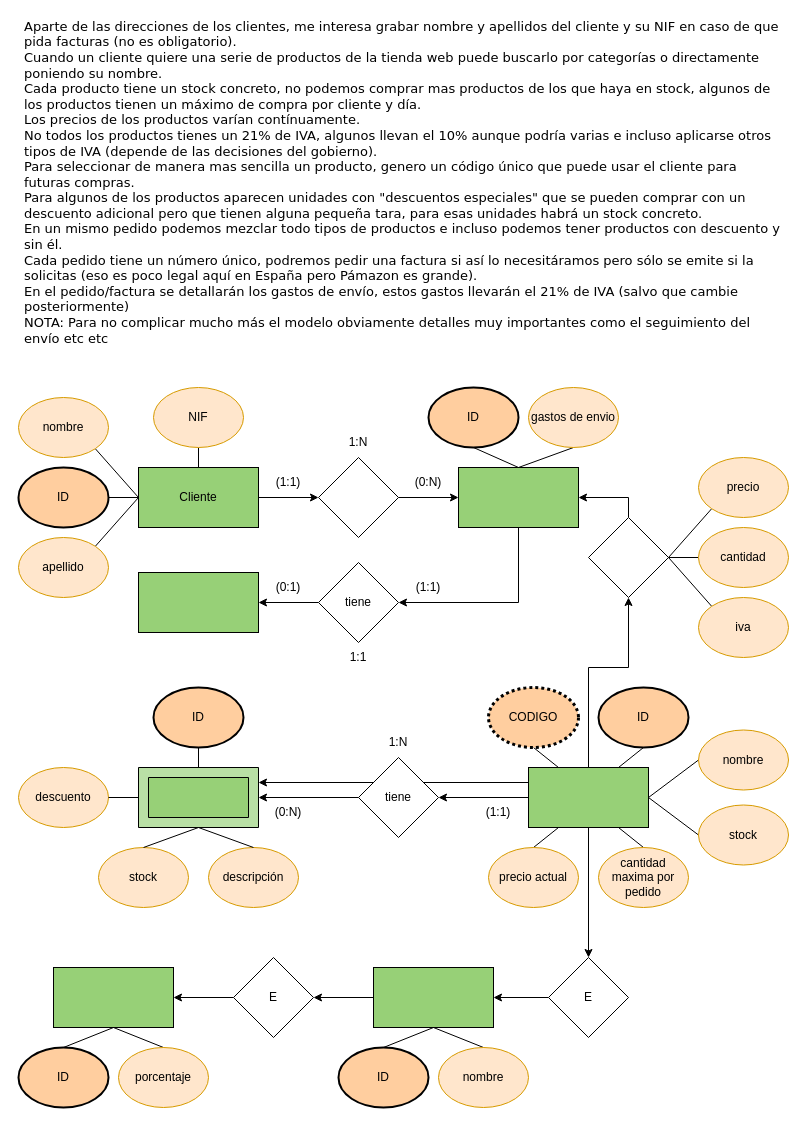
The diagram is 806 pixels wide and 1125 high, and some of its shapes have lost their labels. Here are the shapes that lost their labels. From the top down, the centre of each, then its label:
At point (358, 497): "hace".
At point (518, 497): "Pedido".
At point (628, 557): "compone".
At point (198, 602): "Factura".
At point (198, 797): "Tarado".
At point (588, 797): "Producto".
At point (113, 997): "Tipos de IVA".
At point (433, 997): "Categorias".
